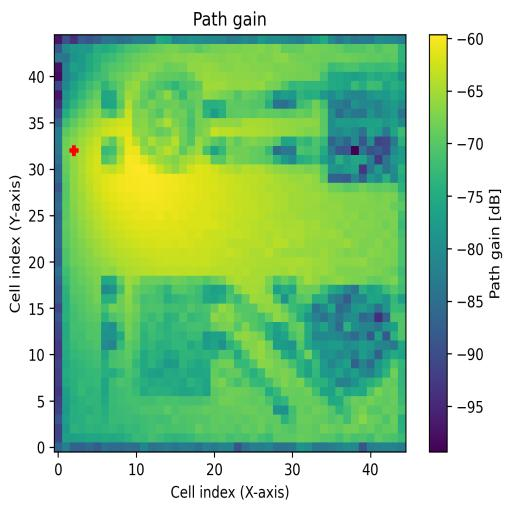Concrete: (328, 62, 398, 184)
Glass: (132, 62, 202, 175)
Metal: (304, 284, 397, 397)
Wood: (141, 275, 211, 397)
